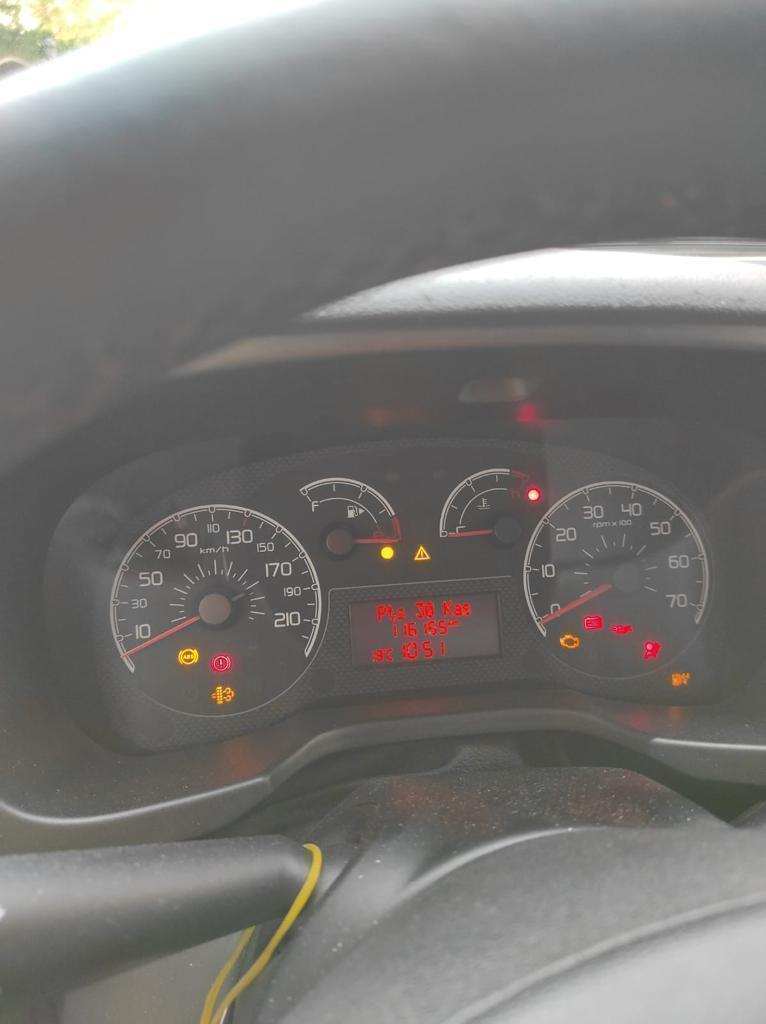0: (405, 641, 417, 660), (424, 599, 434, 618)
1: (440, 639, 446, 658), (370, 647, 376, 665), (392, 623, 398, 639), (423, 621, 427, 637), (403, 623, 407, 637), (402, 643, 405, 660)
3: (415, 600, 424, 619), (377, 648, 383, 663)
5: (421, 640, 434, 659), (438, 619, 447, 634)
6: (407, 621, 417, 636), (428, 620, 436, 635)
X: (376, 604, 386, 622), (441, 598, 451, 616), (386, 605, 395, 623), (462, 601, 472, 616), (395, 607, 406, 620), (452, 602, 461, 616), (385, 647, 394, 661), (452, 620, 458, 625), (448, 619, 452, 625)
odometer: (348, 591, 506, 668)
